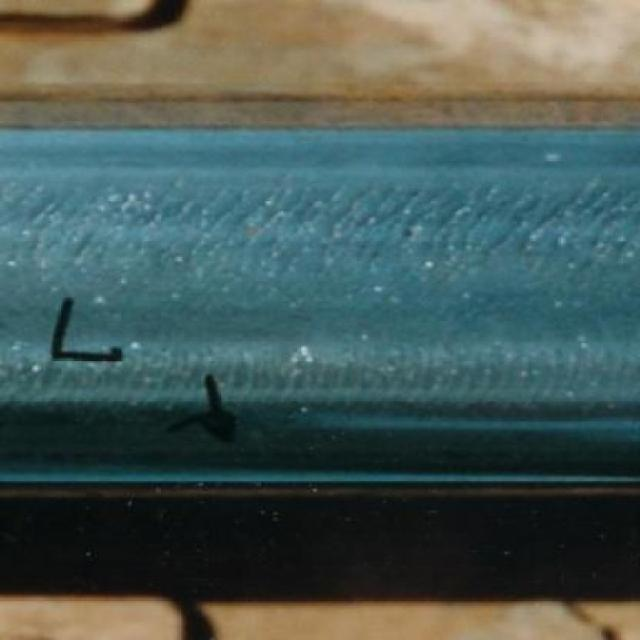defective: (10, 60, 349, 608)
